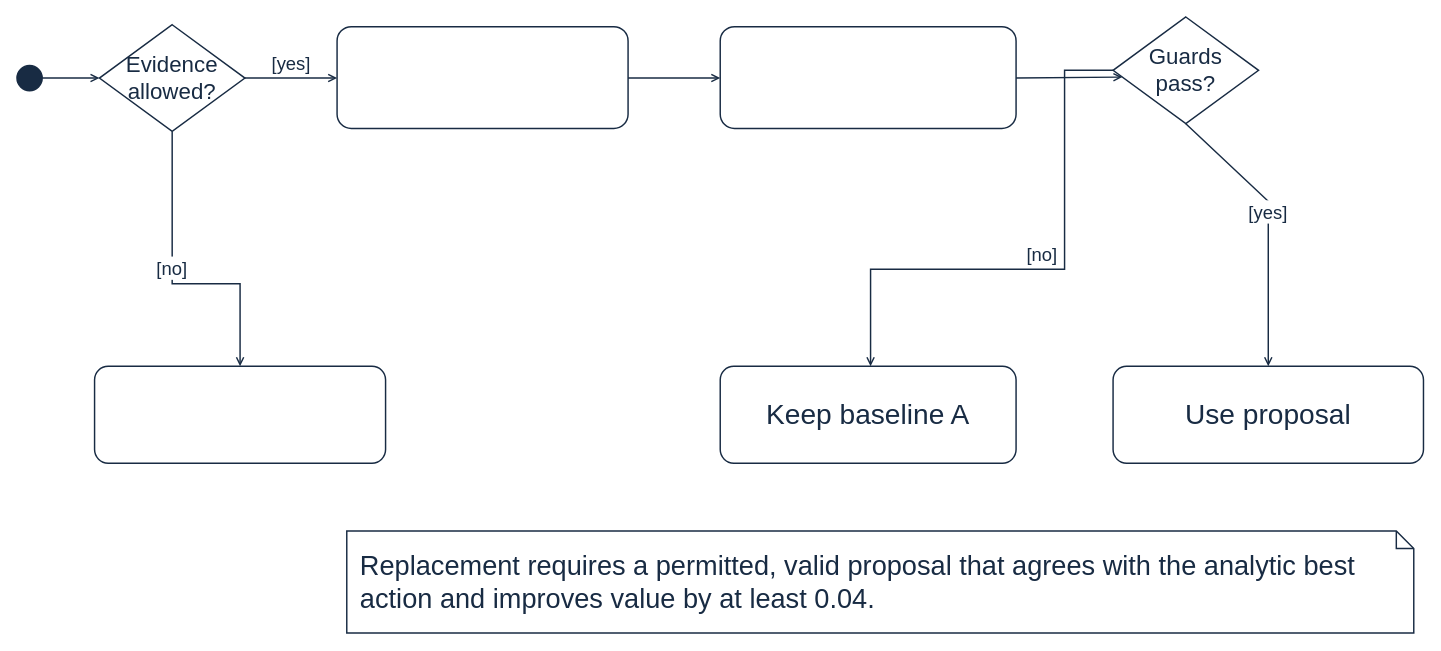
Some shapes in this 1441 by 651 pixel diagram are drawn without their labels. Here are the shapes that lost their labels. From the top down, the centre of each, then its label:
At (482,77): "Compute baseline A".
At (867,77): "Evaluate proposal and analytic value".
At (239,414): "No action".
